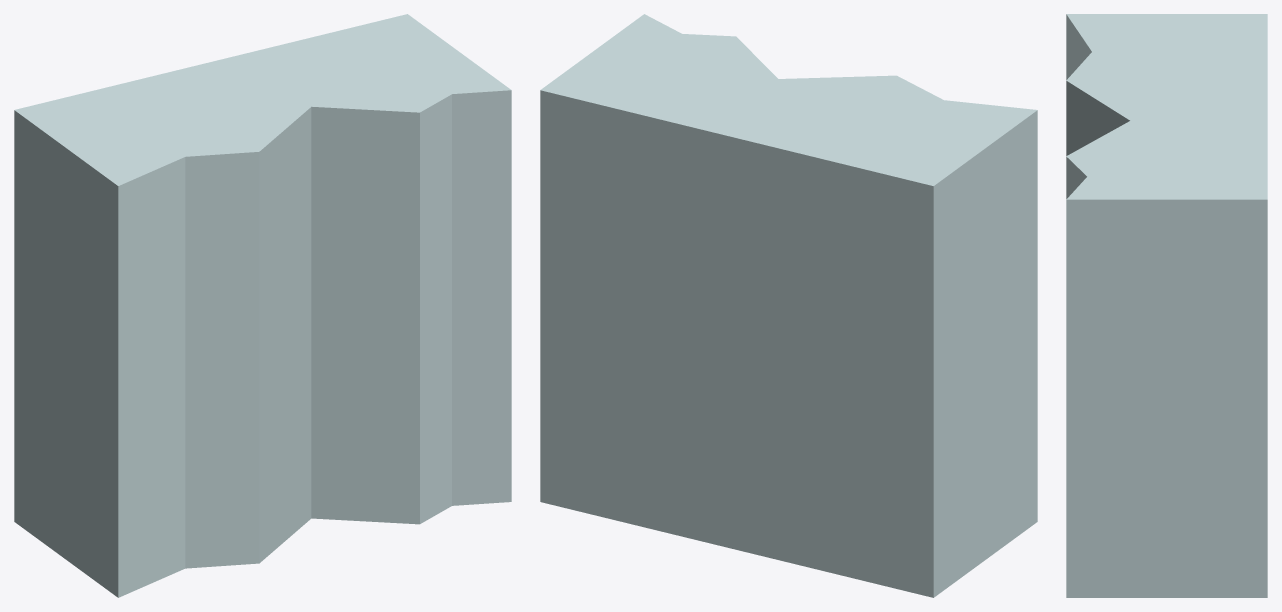
Rendered from cliffGrey.glb.
3 renders of one model, left to right at view 1: azimuth 30°, elevation 25°; view 2: azimuth 150°, elevation 25°; view 3: azimuth 270°, elevation 25°, orthographic. The views are drawn at different scales.
Visible parts, largest first — view 1: cliffGrey; view 2: cliffGrey; view 3: cliffGrey.
Part boxes in pixels (x1,y1,x2,y2): cliffGrey: (14, 14, 511, 597); cliffGrey: (540, 14, 1037, 597); cliffGrey: (1066, 14, 1267, 597).
Bounding box in the file's own units: 1 × 1 × 0.4584.
